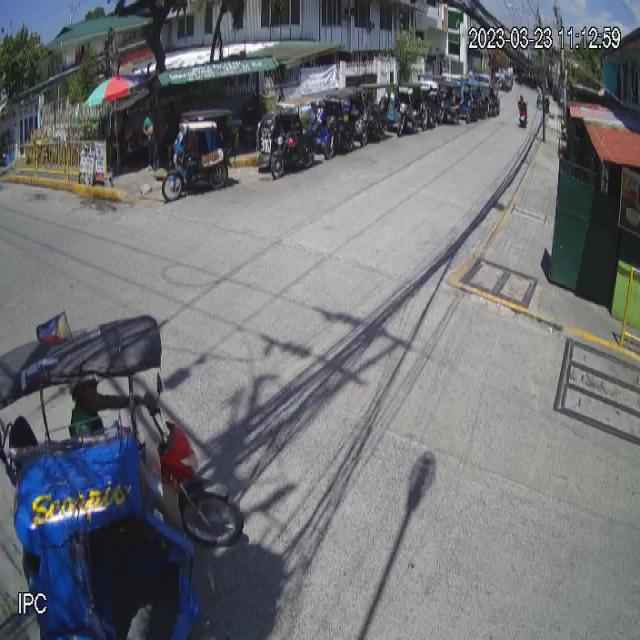Tricycle: (0, 314, 245, 638)
